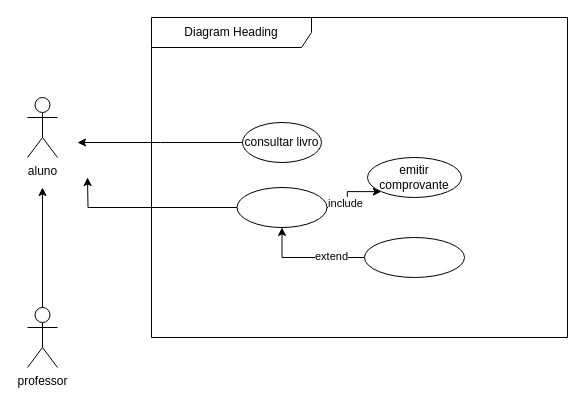
Image size: 585x406. Some labels were removed from this diagram. The shapes that lost their labels are listed below. From the top down, each one's box as (x1, y1, x2, y2) in pixels, then its label:
(236, 186, 327, 228): reservar livro
(364, 236, 464, 278): cadastrar aluno
